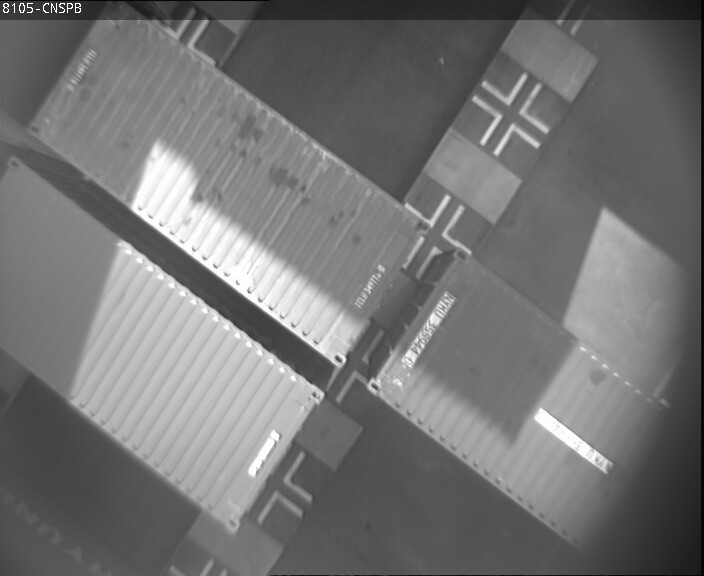groundmarker_1: (403, 189, 473, 255), (478, 74, 547, 139), (469, 86, 538, 151), (248, 452, 317, 517)
